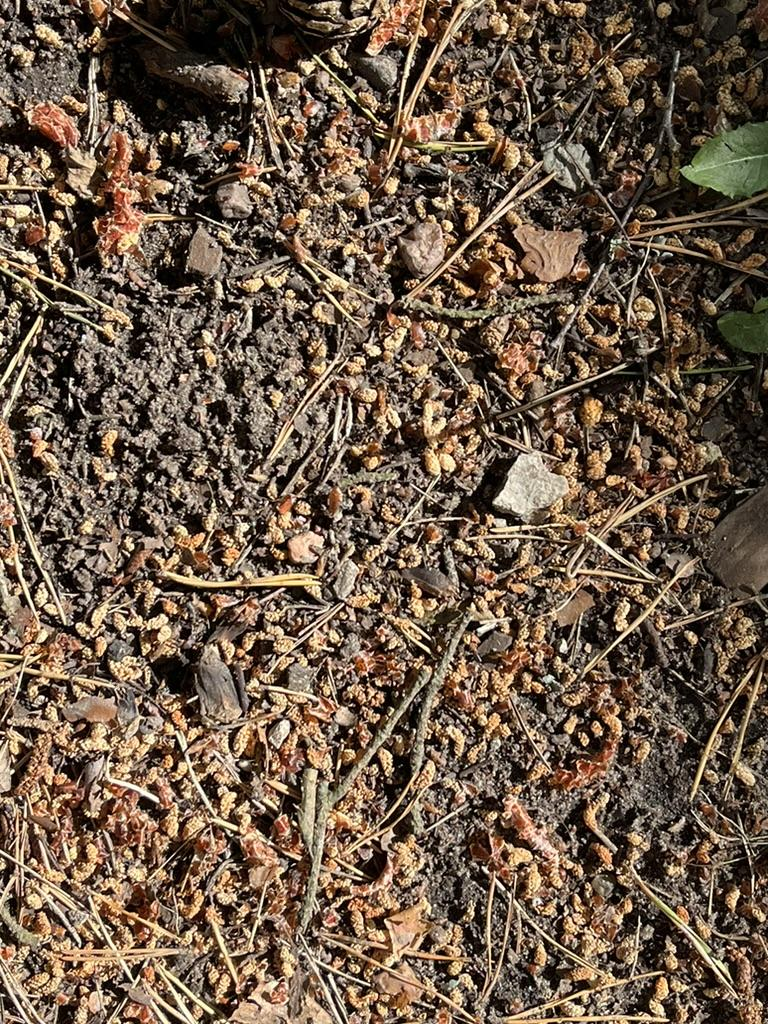pine: (253, 0, 396, 30)
